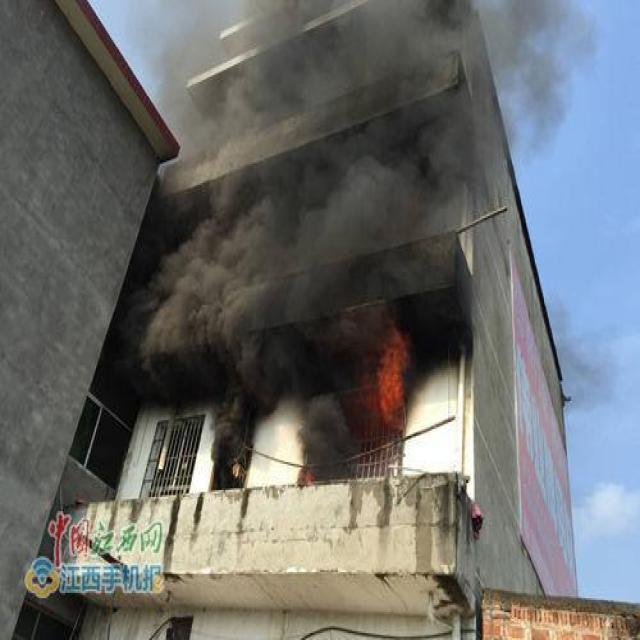Fire: (373, 326, 417, 438)
Smoke: (132, 0, 600, 395)
